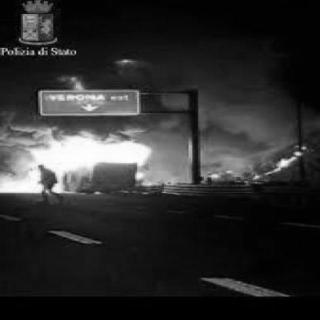Fire: (13, 124, 191, 198)
